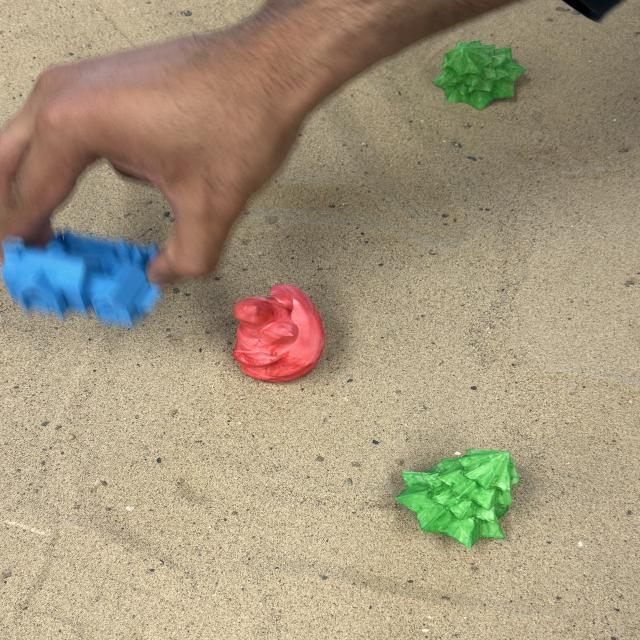fire: (230, 282, 326, 384)
house: (0, 227, 167, 325)
tree: (394, 448, 521, 548), (430, 39, 536, 111)
